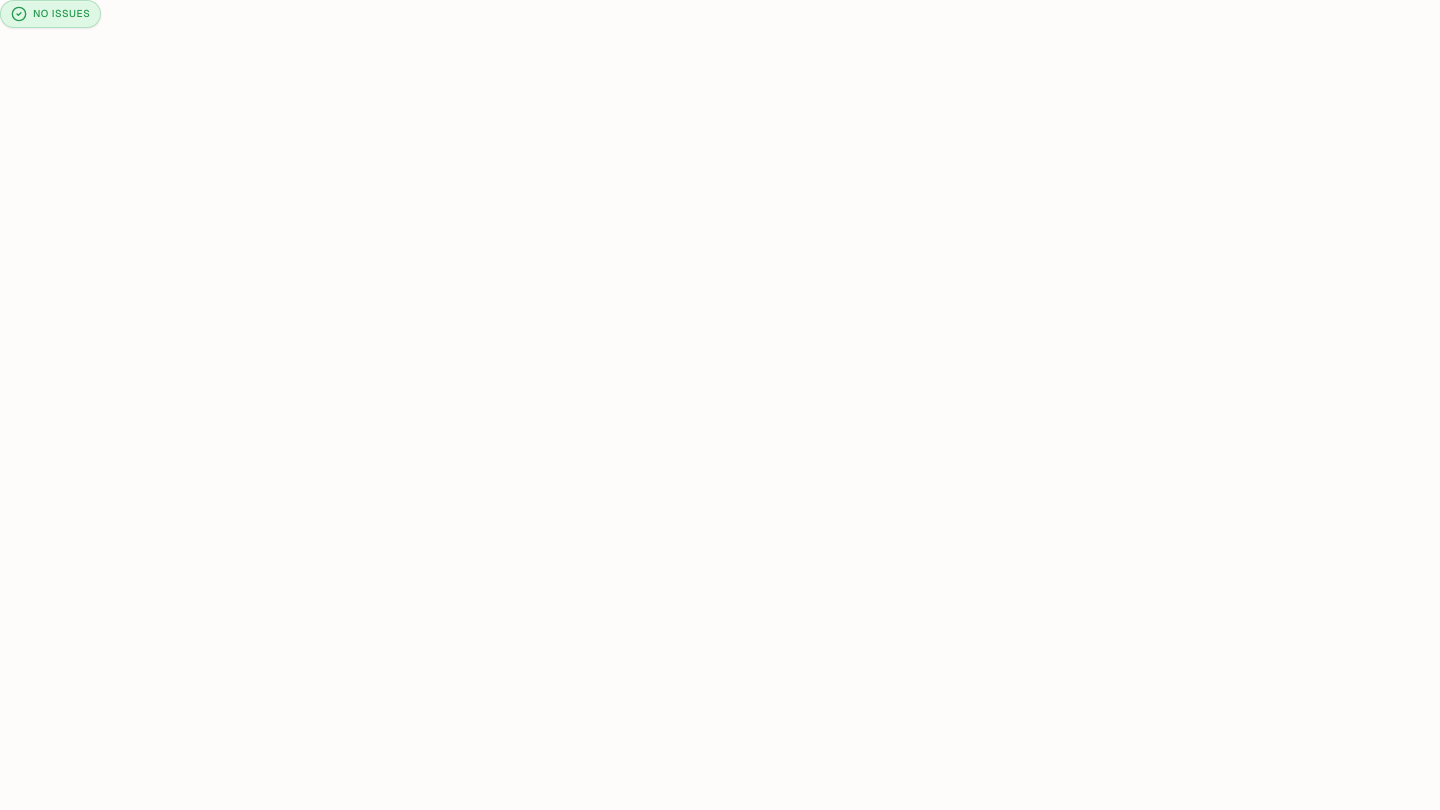
Test: PreviewStatus fidelity guidance › reports only that the current snapshot has no diagnostics
Click the button. click: (51, 14)
box: [0,0,101,28]
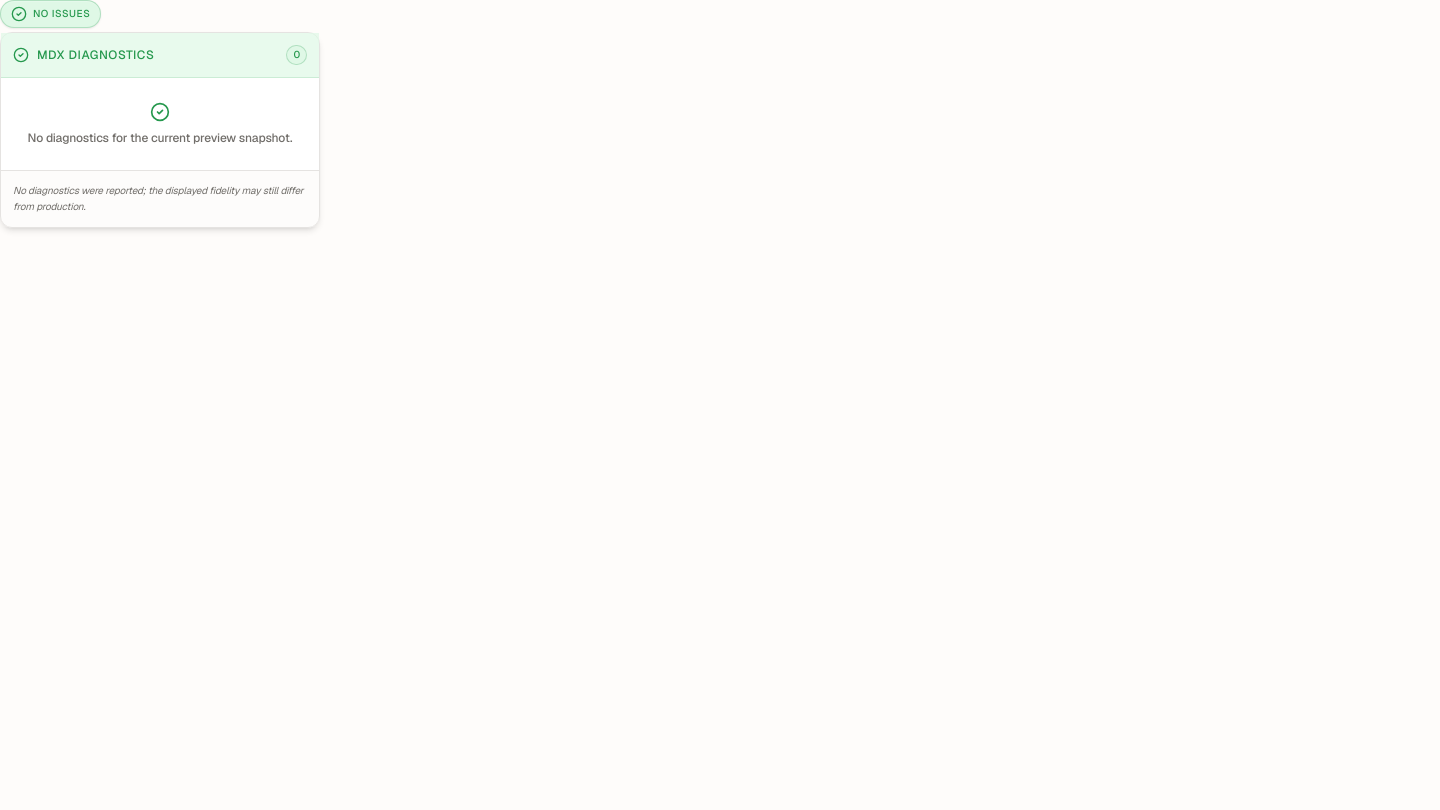
Now the text "No diagnostics for the current preview snapshot." is shown, box [25,130,295,146]
